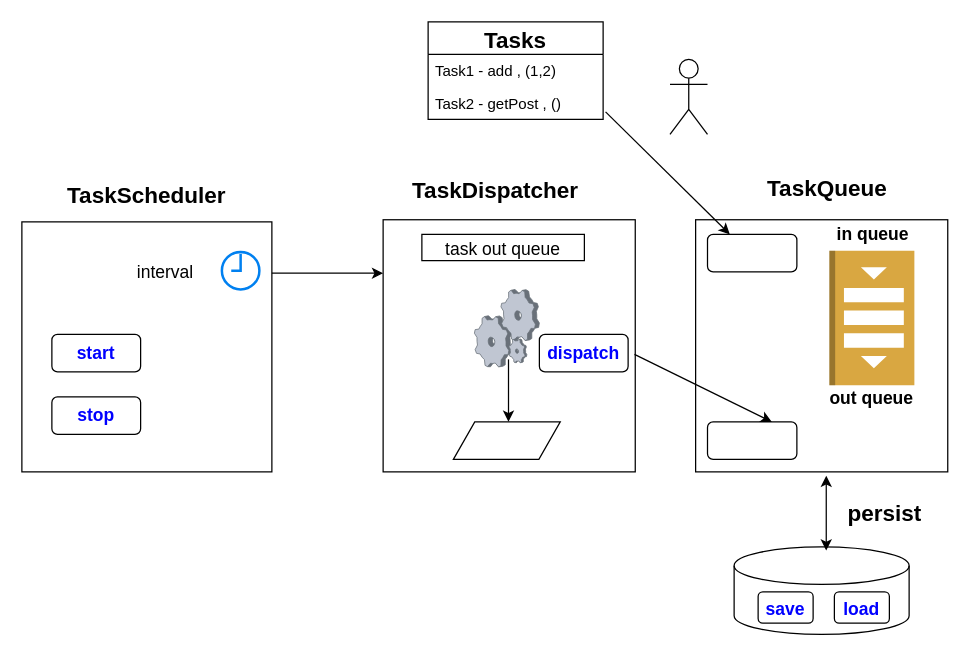
Image size: 970x656. Some labels were removed from this diagram. Each missing label, with the box of its shape:
Actor: (669, 58, 708, 134)
dequeue: (706, 421, 797, 459)
enqueue: (706, 233, 797, 272)
result: (452, 421, 560, 459)
